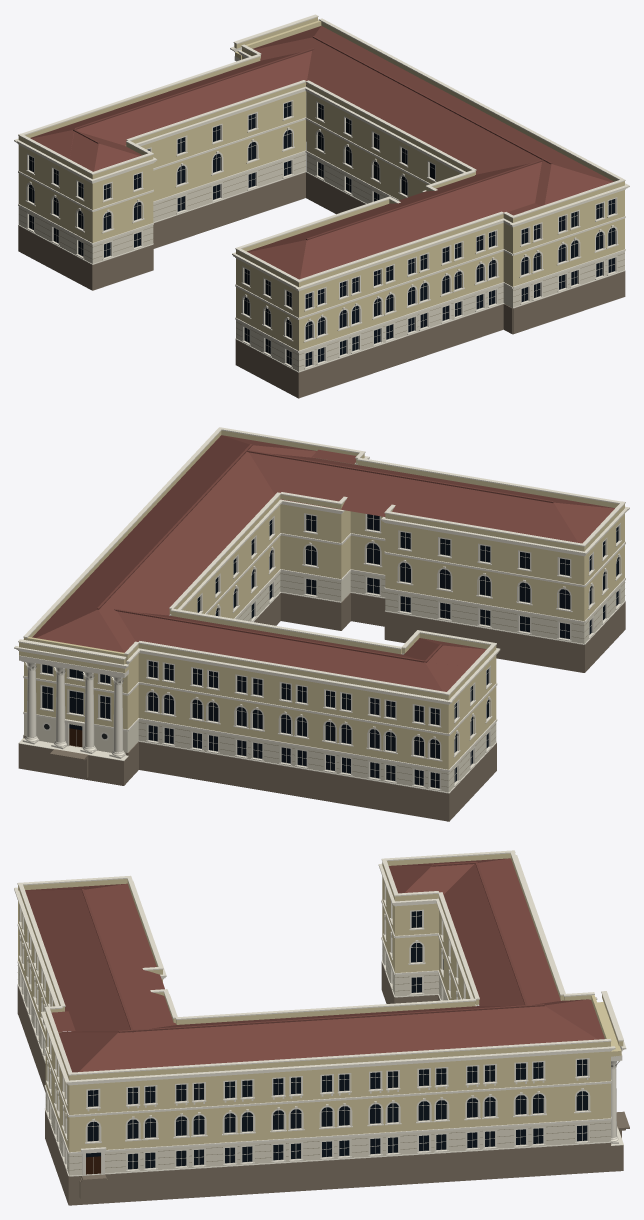
The model's file is gimnazia1.glb.
3 views of the same model, one above another, from view 1: azimuth 30°, elevation 25°; view 2: azimuth 150°, elevation 25°; view 3: azimuth 270°, elevation 25° (orthographic). The views are drawn at different scales.
Visible parts, largest first — view 1: gimnazia1_wall, gimnazia1_roof, gimnazia1_trim, gimnazia1_stone, gimnazia1_glass, gimnazia1_wall2, gimnazia1_wall3; view 2: gimnazia1_wall, gimnazia1_roof, gimnazia1_trim, gimnazia1_stone, gimnazia1_glass, gimnazia1_wall2, gimnazia1_trim_s, gimnazia1_wall3; view 3: gimnazia1_roof, gimnazia1_wall, gimnazia1_trim, gimnazia1_stone, gimnazia1_glass, gimnazia1_wall2, gimnazia1_wall3.
Boxes of the visible parts, x1,y1,x2,y2 form: gimnazia1_wall: (18, 17, 624, 350); gimnazia1_roof: (30, 26, 613, 279); gimnazia1_trim: (14, 14, 629, 372); gimnazia1_stone: (18, 120, 625, 398); gimnazia1_glass: (29, 85, 615, 366); gimnazia1_wall2: (18, 95, 624, 371); gimnazia1_wall3: (19, 154, 624, 366); gimnazia1_wall: (19, 430, 624, 769); gimnazia1_roof: (32, 435, 614, 691); gimnazia1_trim: (14, 427, 629, 793); gimnazia1_stone: (18, 593, 625, 821); gimnazia1_glass: (42, 514, 618, 788); gimnazia1_wall2: (24, 571, 624, 792); gimnazia1_trim_s: (27, 670, 122, 752); gimnazia1_wall3: (139, 573, 625, 787); gimnazia1_roof: (25, 858, 604, 1072); gimnazia1_wall: (18, 853, 623, 1152); gimnazia1_trim: (14, 850, 626, 1176); gimnazia1_stone: (17, 962, 629, 1205); gimnazia1_glass: (86, 911, 587, 1169); gimnazia1_wall2: (18, 942, 610, 1175); gimnazia1_wall3: (17, 949, 610, 1170).
Size of the model in its own units: 66.08 by 19.65 by 75.13.
